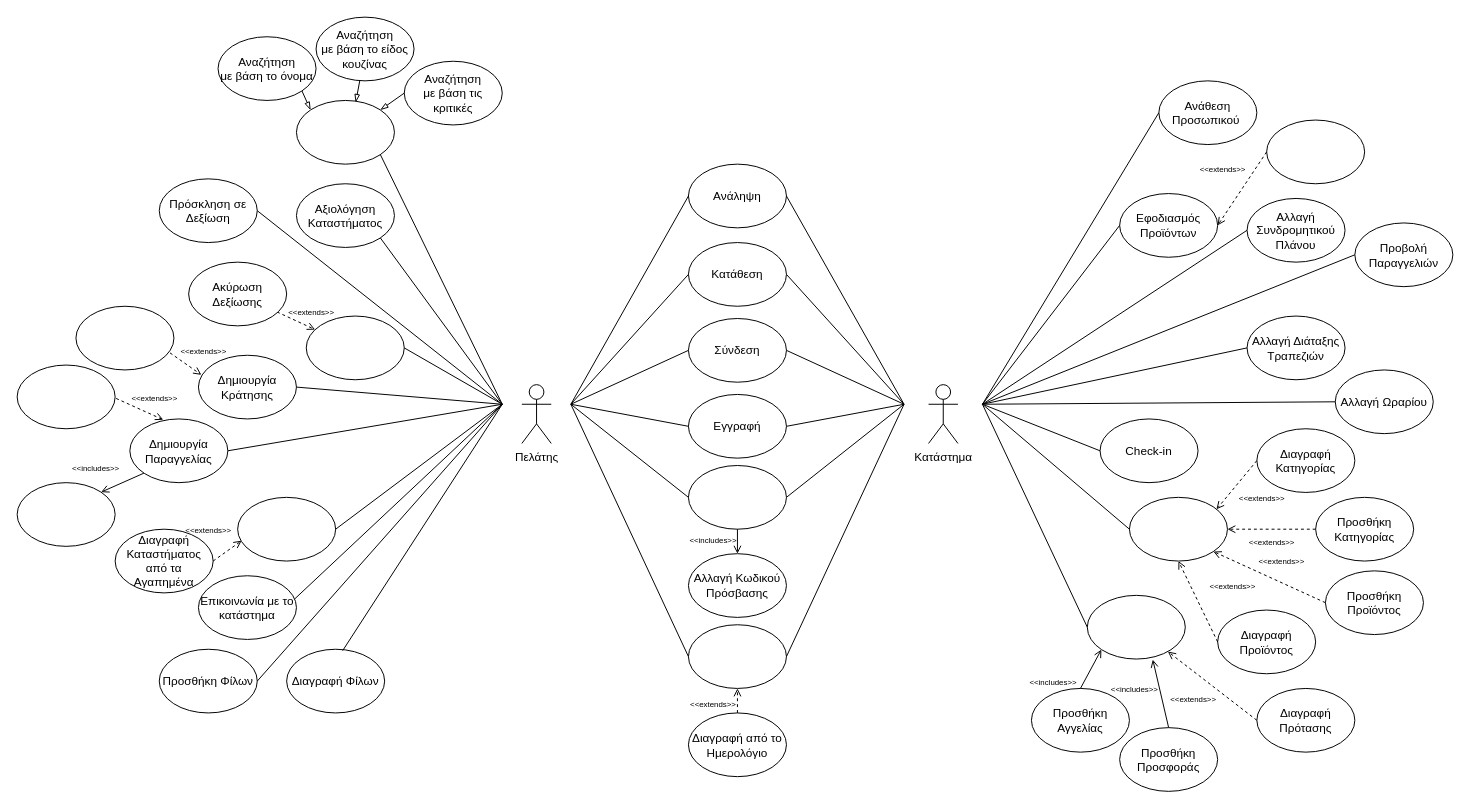
Some shapes in this 1470 by 809 pixel diagram are drawn without their labels. Here are the shapes that lost their labels. From the top down, the centre of each, then its label:
the point at 344,131: Αναζήτηση Καταστήματος
the point at 1315,151: Πληρωμή Εφοριασμού
the point at 124,337: Ακύρωση Κράτησης
the point at 354,347: Διοργάνωση Δεξίωσης
the point at 65,396: Ακύρωση Παραγγελίας
the point at 65,514: Προσθήκη Προϊόντος στην Παραγγελία
the point at 736,497: Αλλαγή Προσωπικών Στοιχείων
the point at 286,528: Προσθήκη Καταστήματος στα Αγαπημένα
the point at 1177,528: Μεταβολή Μενού
the point at 1135,626: Δημιουργίας Πρότασης
the point at 736,656: Προσθήκη στο Ημερολόγιο
